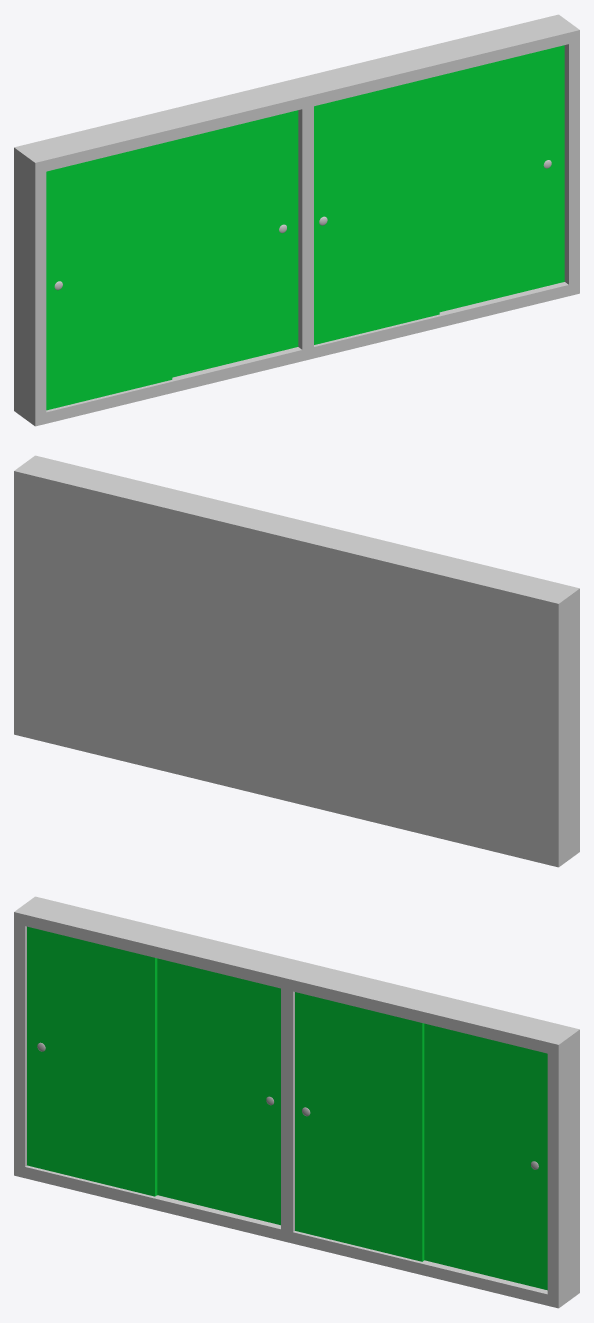
File: Mirror.fbx
3 renders of one model, top to bottom at view 1: azimuth 30°, elevation 25°; view 2: azimuth 150°, elevation 25°; view 3: azimuth 330°, elevation 25°, orthographic.
Parts seen in each view (by area): view 1: Cube.033; view 2: Cube.033; view 3: Cube.033.
Boxes of the visible parts, x1,y1,x2,y2 form: Cube.033: (14, 14, 579, 426); Cube.033: (14, 455, 579, 867); Cube.033: (14, 896, 579, 1308).
Bounding box in the file's own units: 645 × 298 × 43.59.
